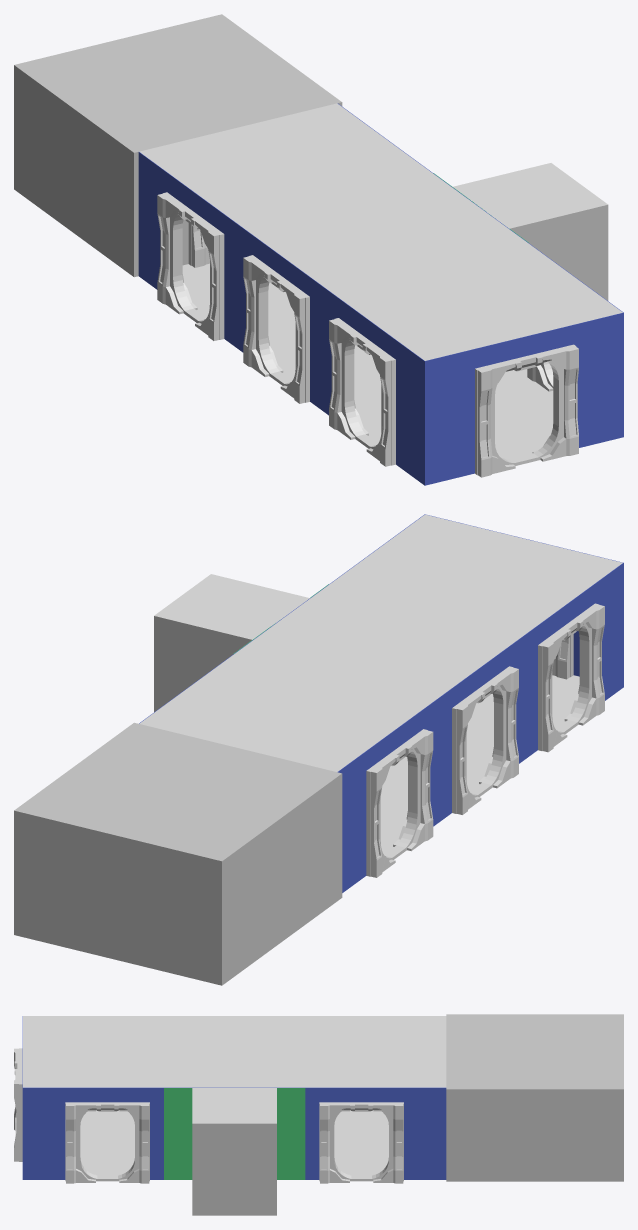
The model's file is office.fbx.
The picture shows the model from 3 angles, top to bottom: view 1: azimuth 30°, elevation 25°; view 2: azimuth 150°, elevation 25°; view 3: azimuth 270°, elevation 25°; orthographic projection. The views are drawn at different scales.
Visible parts, largest first — view 1: Ceiling, Hall, Ceiling.002, Bed Room, Floor.001, frame_door_1.006, Ceiling.001, frame_door_1, frame_door_1.002, frame_door_1.001, Office, frame_door_3; view 2: Ceiling, Bed Room, Ceiling.002, Hall, Ceiling.001, frame_door_1, frame_door_1.002, frame_door_1.001, Floor.001, Office, frame_door_1.006; view 3: Ceiling, Hall, Bed Room, Ceiling.002, Office, Floor.001, frame_door_1.003, frame_door_1.005, Ceiling.001, frame_door_1.006.
Part boxes in pixels (<box>): Ceiling: <box>139,103,622,360</box>; Hall: <box>138,103,623,485</box>; Ceiling.002: <box>22,17,333,149</box>; Bed Room: <box>14,14,342,277</box>; Floor.001: <box>182,263,553,458</box>; frame_door_1.006: <box>475,344,578,477</box>; Ceiling.001: <box>453,163,607,228</box>; frame_door_1: <box>157,192,224,340</box>; frame_door_1.002: <box>329,318,395,466</box>; frame_door_1.001: <box>243,255,309,403</box>; Office: <box>510,205,608,300</box>; frame_door_3: <box>188,223,209,267</box>; Ceiling: <box>139,514,622,771</box>; Bed Room: <box>14,722,342,985</box>; Ceiling.002: <box>22,726,333,857</box>; Hall: <box>139,514,623,892</box>; Ceiling.001: <box>154,574,309,639</box>; frame_door_1: <box>366,729,433,877</box>; frame_door_1.002: <box>538,603,604,752</box>; frame_door_1.001: <box>452,666,518,814</box>; Floor.001: <box>380,675,579,854</box>; Office: <box>154,616,251,711</box>; frame_door_1.006: <box>552,634,573,679</box>; Ceiling: <box>23,1016,446,1087</box>; Hall: <box>22,1016,446,1179</box>; Bed Room: <box>446,1014,623,1181</box>; Ceiling.002: <box>450,1016,619,1087</box>; Office: <box>192,1123,276,1215</box>; Floor.001: <box>80,1110,388,1175</box>; frame_door_1.003: <box>65,1102,149,1183</box>; frame_door_1.005: <box>319,1102,403,1183</box>; Ceiling.001: <box>192,1088,276,1123</box>; frame_door_1.006: <box>14,1048,22,1161</box>.
Size of the model in its own units: 622 by 240 by 1441.
